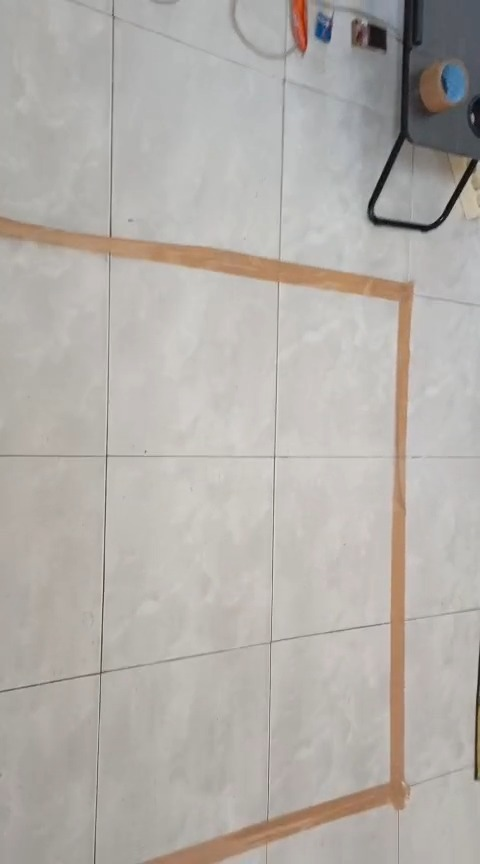floor marking: (0, 217, 412, 863)
